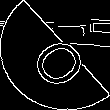O_NE: (19, 22, 91, 88)
